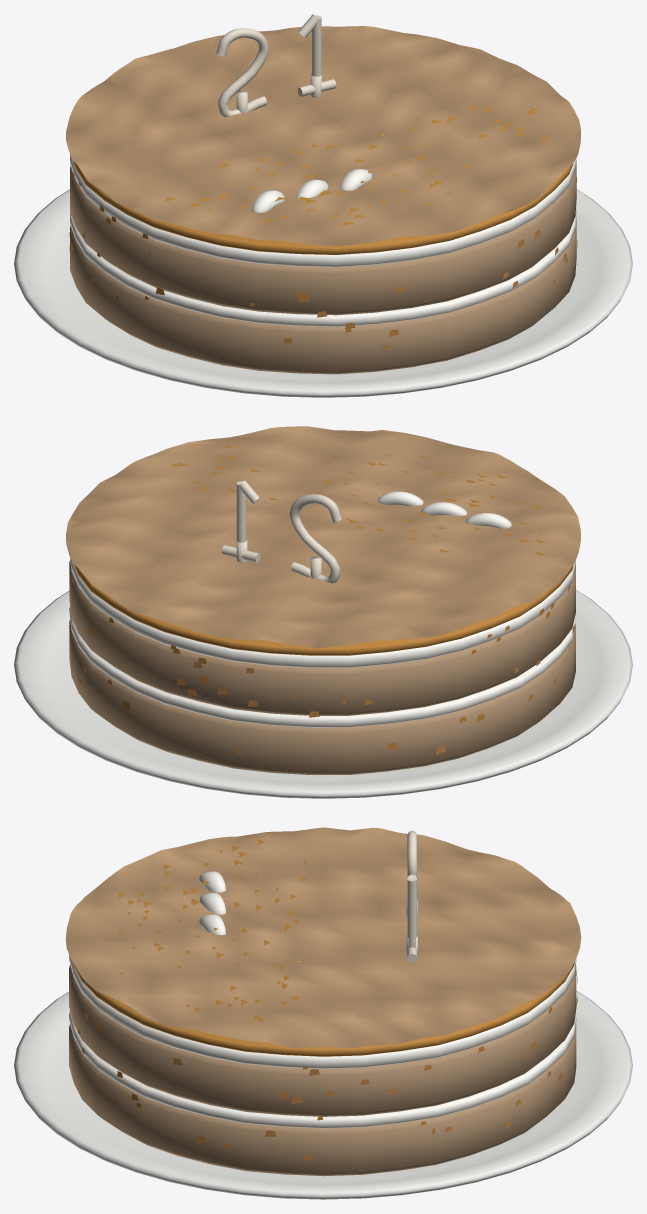
Rendered from cake-21.90c94a0419a4.glb.
3 views of the same model, one above another, from view 1: azimuth 30°, elevation 25°; view 2: azimuth 150°, elevation 25°; view 3: azimuth 270°, elevation 25° (orthographic).
Visible parts, largest first — view 1: Irregular_hand_spread_food_surface, PART_FOOD_ROOT_MAT_tea, Clean_porcelain_plate, PART_FOOD_ROOT_MAT_cream, PART_FOOD_ROOT_MAT_amber, PART_FOOD_ROOT_MAT_pearl_wax, Edible_side_crumb_and_spatula_marks; view 2: Irregular_hand_spread_food_surface, PART_FOOD_ROOT_MAT_tea, Clean_porcelain_plate, PART_FOOD_ROOT_MAT_cream, PART_FOOD_ROOT_MAT_amber, PART_FOOD_ROOT_MAT_pearl_wax, Edible_side_crumb_and_spatula_marks; view 3: Irregular_hand_spread_food_surface, PART_FOOD_ROOT_MAT_tea, Clean_porcelain_plate, PART_FOOD_ROOT_MAT_cream, PART_FOOD_ROOT_MAT_amber, PART_FOOD_ROOT_MAT_pearl_wax, Edible_side_crumb_and_spatula_marks.
Boxes of the visible parts, x1,y1,x2,y2 form: Irregular_hand_spread_food_surface: (66,26,580,246); PART_FOOD_ROOT_MAT_tea: (70,159,576,374); Clean_porcelain_plate: (14,189,632,397); PART_FOOD_ROOT_MAT_cream: (70,154,576,326); PART_FOOD_ROOT_MAT_amber: (73,106,573,254); PART_FOOD_ROOT_MAT_pearl_wax: (216,14,336,116); Edible_side_crumb_and_spatula_marks: (69,172,577,349); Irregular_hand_spread_food_surface: (66,426,580,648); PART_FOOD_ROOT_MAT_tea: (69,560,575,774); Clean_porcelain_plate: (14,590,632,798); PART_FOOD_ROOT_MAT_cream: (69,491,575,727); PART_FOOD_ROOT_MAT_amber: (73,436,573,655); PART_FOOD_ROOT_MAT_pearl_wax: (221,480,341,583); Edible_side_crumb_and_spatula_marks: (69,577,574,754); Irregular_hand_spread_food_surface: (65,827,581,1048); PART_FOOD_ROOT_MAT_tea: (69,964,576,1176); Clean_porcelain_plate: (14,990,632,1199); PART_FOOD_ROOT_MAT_cream: (69,871,576,1128); PART_FOOD_ROOT_MAT_amber: (73,839,574,1056); PART_FOOD_ROOT_MAT_pearl_wax: (406,830,417,962); Edible_side_crumb_and_spatula_marks: (78,969,577,1160).
Bounding box in the file's own units: 0.1952 × 0.0789 × 0.1952.
